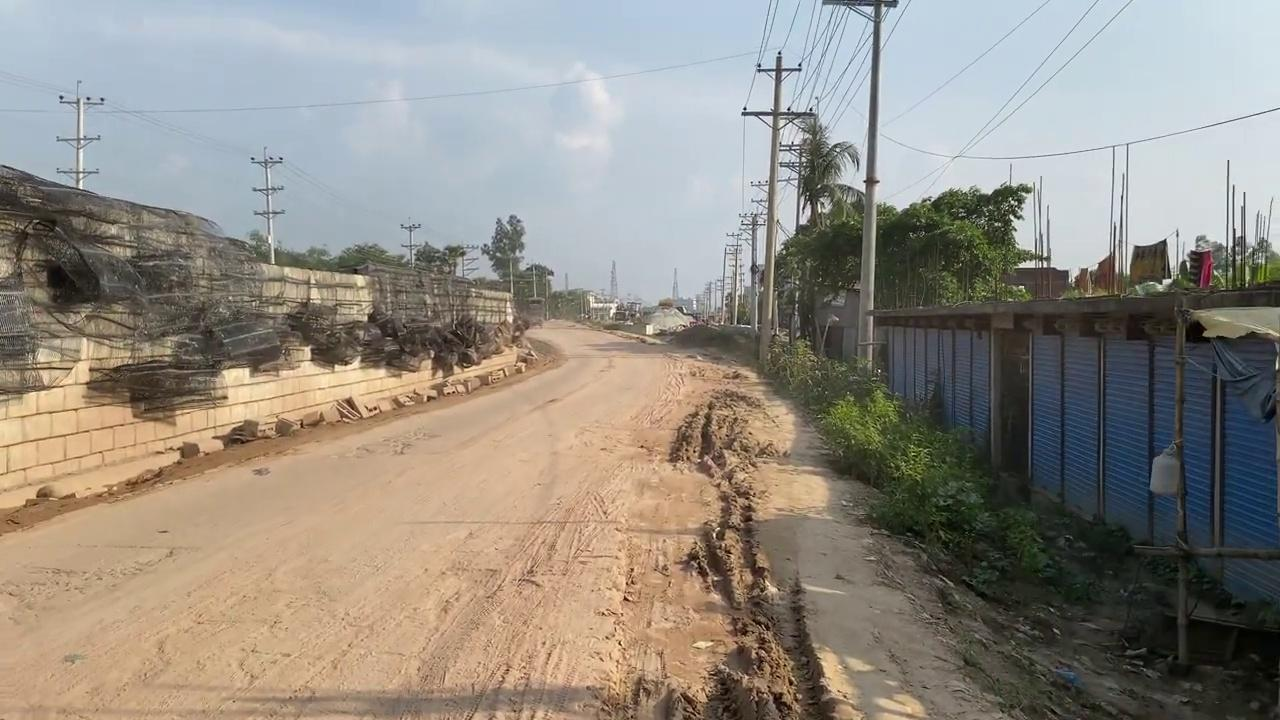Muddy road: (1, 316, 1021, 718)
Pole: (821, 0, 898, 375), (741, 51, 816, 363), (1171, 306, 1191, 667)
Rickshaw: (712, 351, 1017, 718)
Traffic-sign: (790, 114, 860, 228), (481, 212, 526, 295)
Upstairs: (0, 162, 536, 497)
